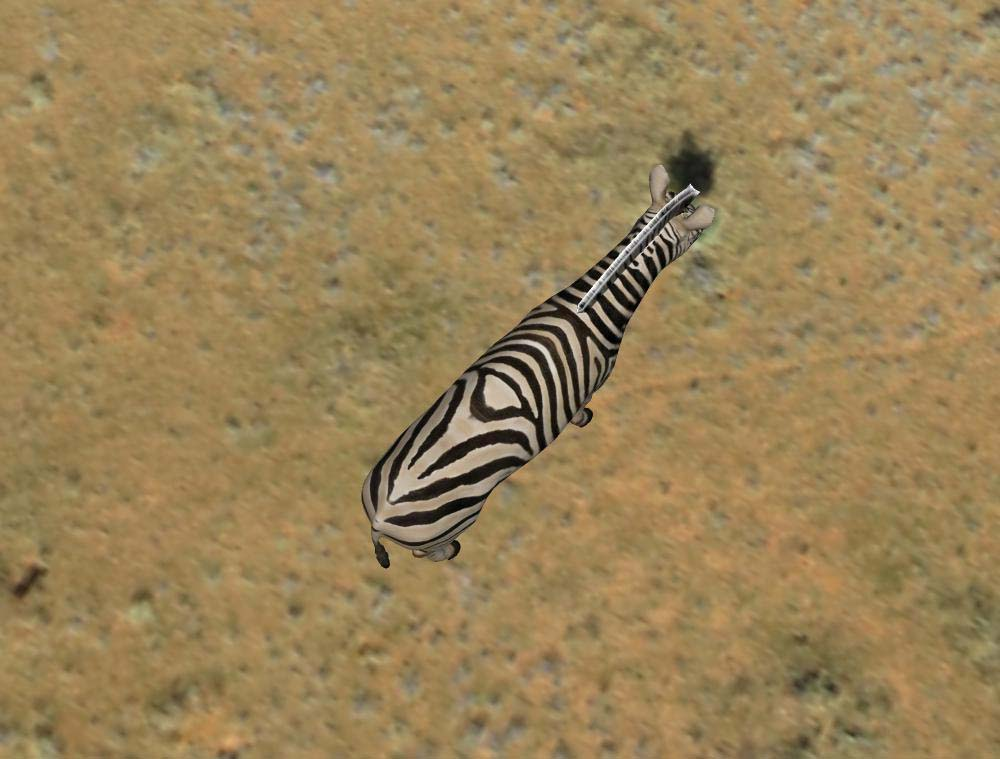zebra: (358, 158, 721, 569)
